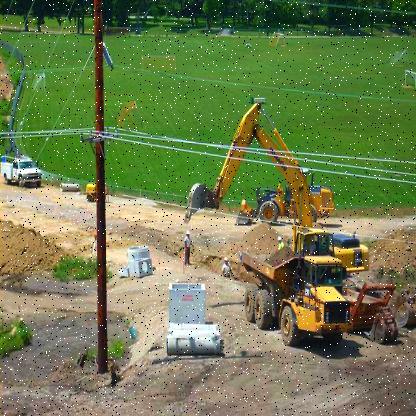excavator: (181, 89, 342, 239)
